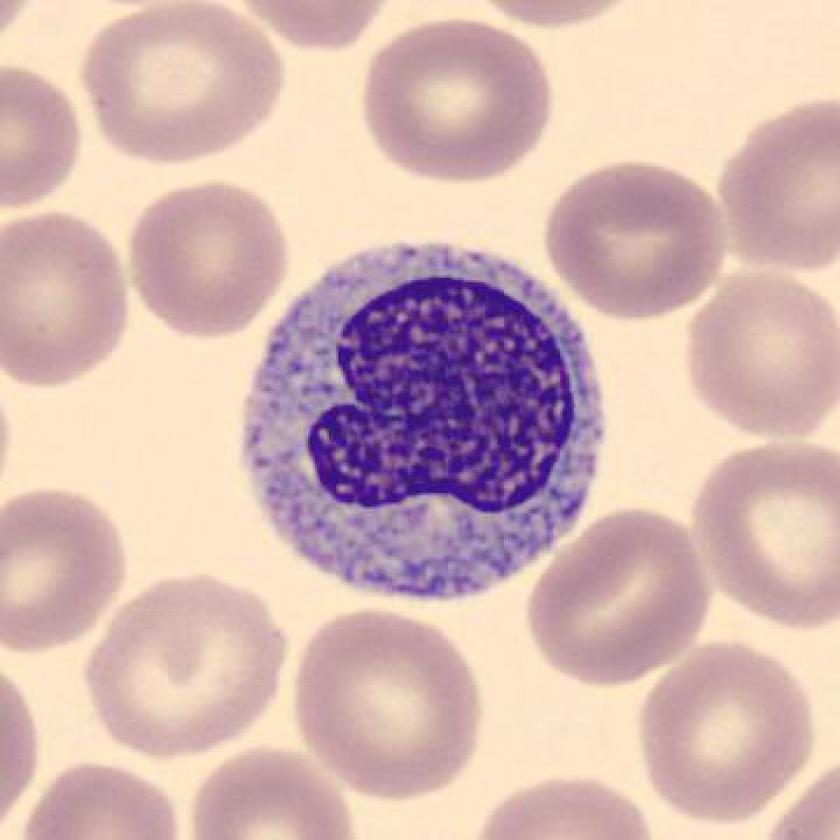monocyte: (225, 223, 622, 617)
